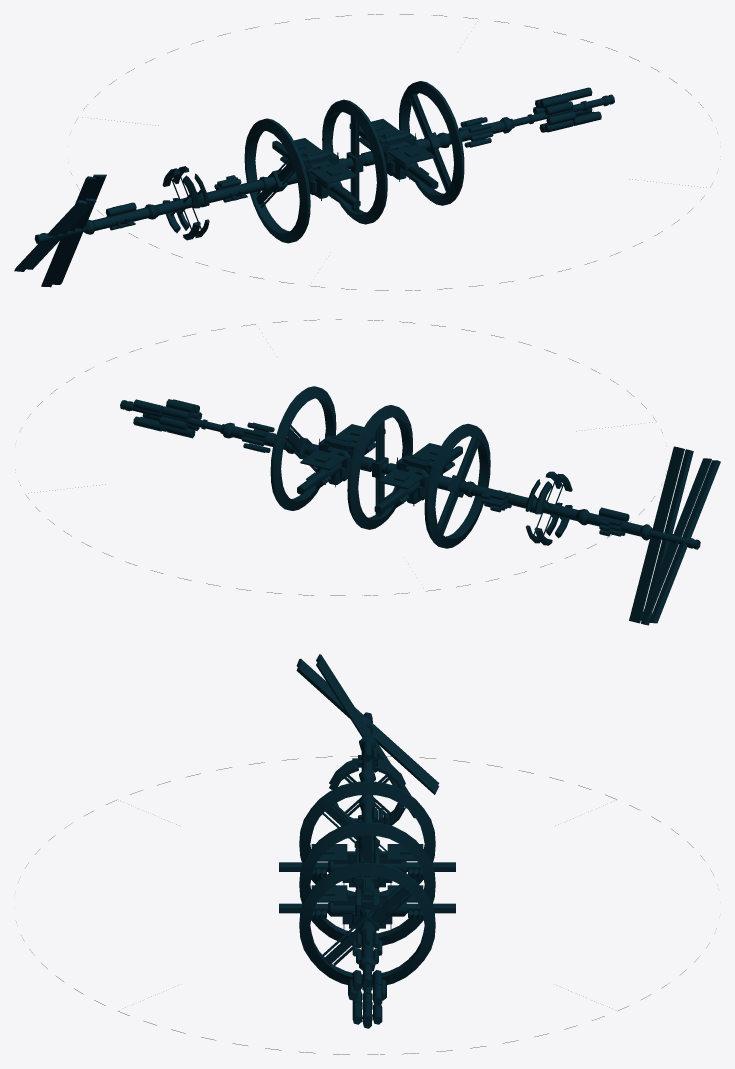
File: StationAlpha.dae
3 renders of one model, top to bottom at view 1: azimuth 30°, elevation 25°; view 2: azimuth 150°, elevation 25°; view 3: azimuth 270°, elevation 25°, orthographic. The views are drawn at different scales.
Parts seen in each view (by area): view 1: station_alpha1, pCylinder1; view 2: station_alpha1, pCylinder1; view 3: station_alpha1, pCylinder1.
Boxes of the visible parts, x1,y1,x2,y2 form: station_alpha1: (14,81,614,287); pCylinder1: (71,14,712,290); station_alpha1: (120,386,720,625); pCylinder1: (19,319,662,595); station_alpha1: (279,654,455,1028); pCylinder1: (18,756,716,1054).
Bounding box in the file's own units: 3.39 × 0.7266 × 3.
